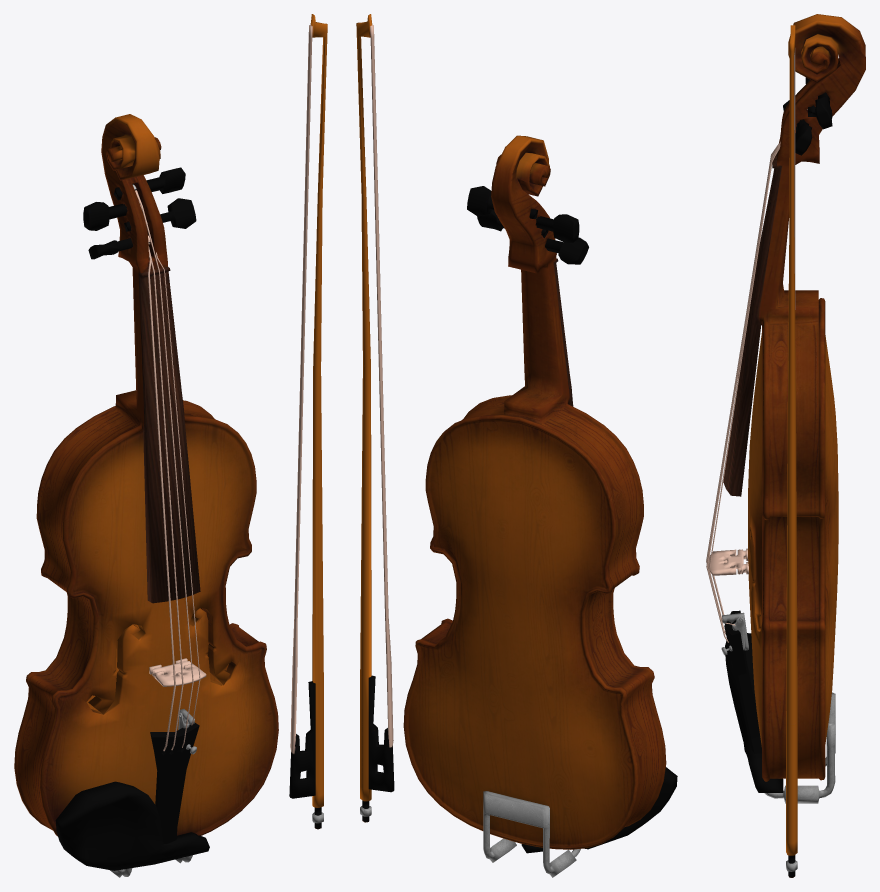
Rendered from Violin.fbx.
3 renders of one model, left to right at view 1: azimuth 30°, elevation 25°; view 2: azimuth 150°, elevation 25°; view 3: azimuth 270°, elevation 25°, orthographic. The views are drawn at different scales.
Parts seen in each view (by area): view 1: Violin_low, Smichok_low, Podborodnik_low, Strings_low, Grif_Bottom_low, String_Support_low, Kolki_04_low, Kolki_01_low, Kolki_03_low; view 2: Violin_low, Smichok_low, Podborodnik_Bottom_low, Podborodnik_low, Kolki_04_low, Kolki_02_low, Kolki_03_low; view 3: Violin_low, Smichok_low, Strings_low, Grif_Bottom_low, Podborodnik_low, Podborodnik_Bottom_low, String_Support_low, Kolki_03_low, Kolki_01_low.
Boxes of the visible parts, box(x1,y1,x2,y2) form: Violin_low: box(14, 114, 278, 836); Smichok_low: box(289, 14, 327, 829); Podborodnik_low: box(55, 781, 209, 870); Strings_low: box(133, 184, 200, 751); Grif_Bottom_low: box(150, 722, 199, 843); String_Support_low: box(149, 658, 206, 686); Kolki_04_low: box(83, 202, 140, 230); Kolki_01_low: box(124, 198, 196, 231); Kolki_03_low: box(114, 167, 185, 200); Violin_low: box(403, 135, 666, 853); Smichok_low: box(356, 14, 394, 822); Podborodnik_Bottom_low: box(483, 791, 580, 877); Podborodnik_low: box(584, 767, 677, 849); Kolki_04_low: box(535, 214, 579, 242); Kolki_02_low: box(545, 237, 588, 264); Kolki_03_low: box(467, 186, 537, 218); Violin_low: box(723, 14, 865, 781); Smichok_low: box(786, 25, 797, 877); Strings_low: box(706, 109, 807, 642); Grif_Bottom_low: box(724, 610, 761, 753); Podborodnik_low: box(725, 633, 783, 792); Podborodnik_Bottom_low: box(764, 692, 835, 803); String_Support_low: box(707, 548, 748, 575); Kolki_03_low: box(815, 92, 832, 129); Kolki_01_low: box(795, 119, 812, 155).
Bounding box in the file's own units: 30.35 × 78.85 × 13.46.
Materials: 1 (1 with a texture image).
